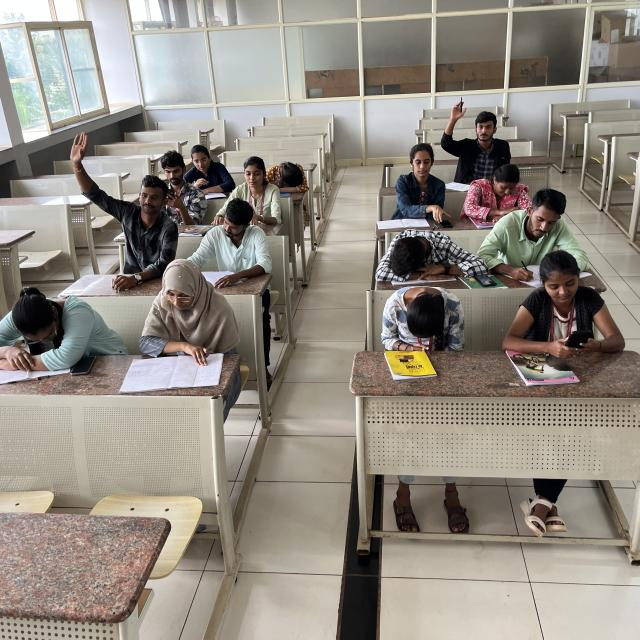Hand Rising: (57, 126, 167, 259), (443, 90, 533, 185)
Reading: (140, 267, 264, 404), (190, 207, 282, 294)
Sleeping: (1, 283, 116, 379), (379, 224, 494, 291), (375, 282, 481, 351), (252, 141, 329, 197)
Using Phone: (509, 252, 629, 362), (401, 145, 468, 229), (218, 167, 293, 234), (149, 147, 208, 222)
Writing: (484, 198, 616, 294)
